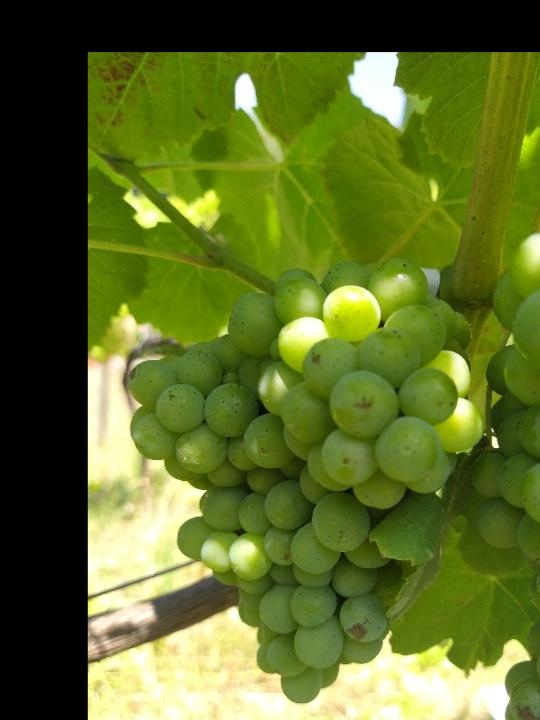grape: (131, 258, 484, 704)
